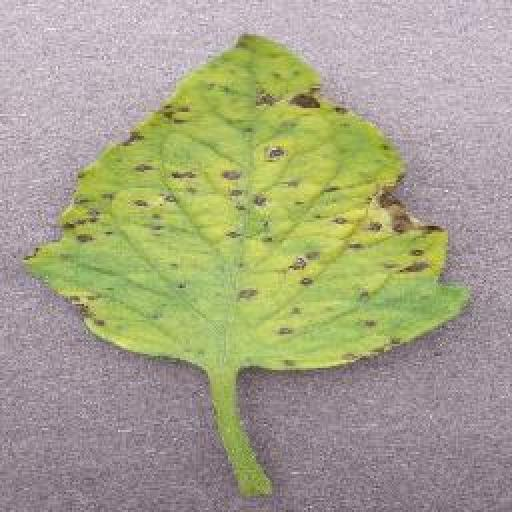Septoria: (32, 32, 471, 372)
